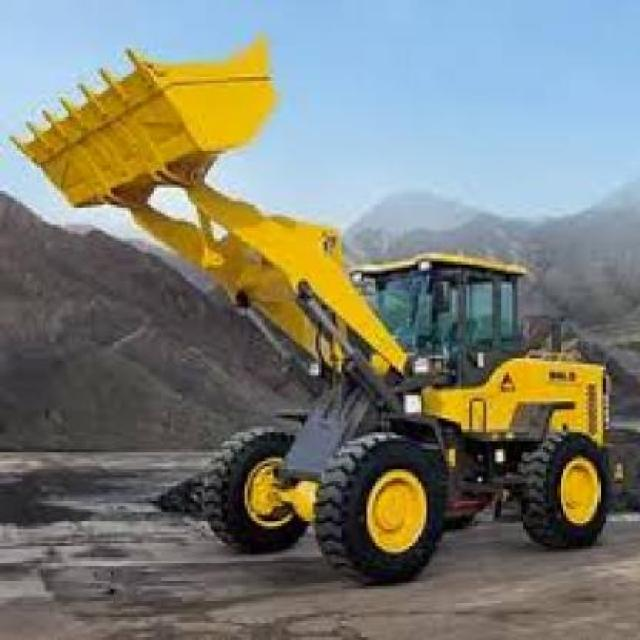buldozerpayloadergrader: (4, 29, 634, 598)
